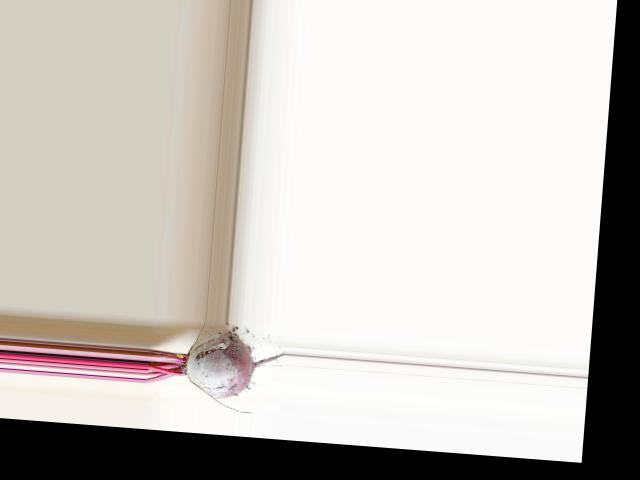beet: (145, 326, 286, 415)
